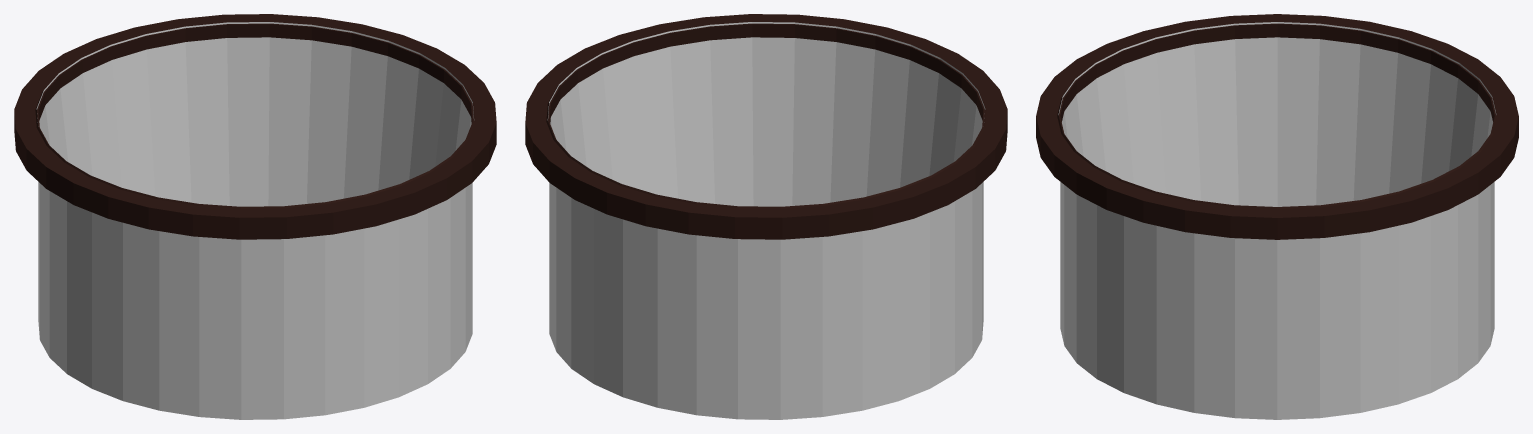
Rendered from kosz.glb.
3 views of the same model, side by side, from view 1: azimuth 30°, elevation 25°; view 2: azimuth 150°, elevation 25°; view 3: azimuth 270°, elevation 25° (orthographic).
Visible parts, largest first — view 1: Cylinder; view 2: Cylinder; view 3: Cylinder.
Part boxes in pixels (x1,y1,x2,y2): Cylinder: (14,14,496,419); Cylinder: (525,14,1007,419); Cylinder: (1036,14,1518,419).
Size of the model in its own units: 0.2 by 0.0977 by 0.2.
